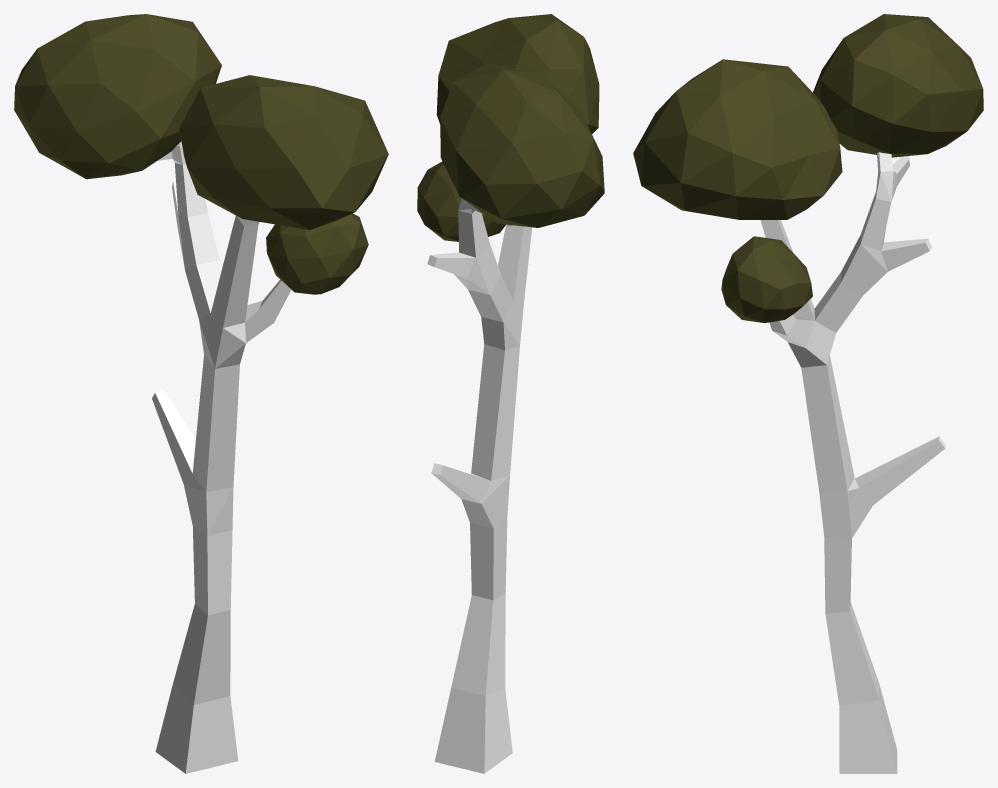
File: PrairieTree(2).fbx
3 views of the same model, side by side, from view 1: azimuth 30°, elevation 25°; view 2: azimuth 150°, elevation 25°; view 3: azimuth 270°, elevation 25° (orthographic). The views are drawn at different scales.
Parts seen in each view (by area): view 1: PrairieTree(2); view 2: PrairieTree(2); view 3: PrairieTree(2).
Part boxes in pixels (x1,y1,x2,y2): PrairieTree(2): (14,14,388,773); PrairieTree(2): (417,14,604,773); PrairieTree(2): (633,14,983,773).
Size of the model in its own units: 3.23 by 8.82 by 3.93.
